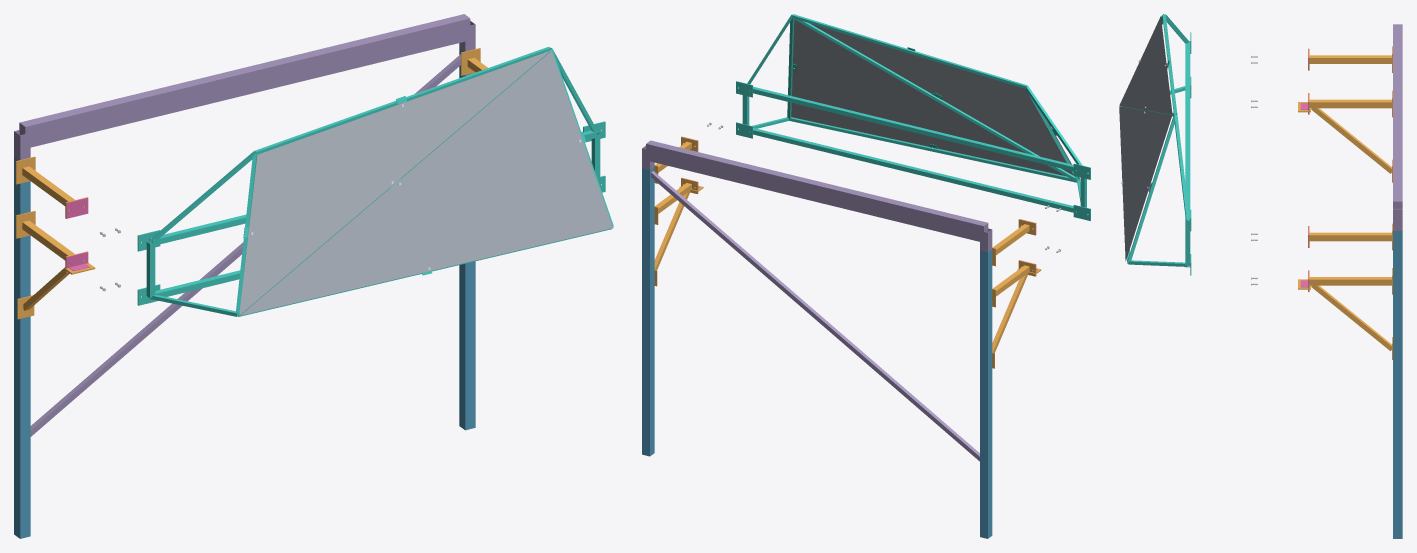
The model's file is baaabs-panel-mounting-v1-exploded.glb.
3 renders of one model, left to right at view 1: azimuth 30°, elevation 25°; view 2: azimuth 150°, elevation 25°; view 3: azimuth 270°, elevation 25°, orthographic. The views are drawn at different scales.
Parts seen in each view (by area): view 1: B-D-033 existing skin, B-D-034 existing skin, Existing roof longitudinal, C driver upright, D driver upright, Existing C-D side brace, Facet backing edge (1, 3), Cassette top rail, Facet corner pickup 3, Cassette bottom rail, Facet backing edge (0, 3); view 2: B-D-033 existing skin, B-D-034 existing skin, Existing roof longitudinal, C driver upright, D driver upright, Existing C-D side brace, Cassette top rail, Cassette bottom rail, Facet backing edge (0, 1), Facet backing edge (0, 2), Facet backing edge (1, 3), C lower outrigger brace; view 3: B-D-033 existing skin, D driver upright, B-D-034 existing skin, Existing roof longitudinal, Cassette top rail, D-upper outrigger, C-lower outrigger, C-upper outrigger, D-lower outrigger, D lower outrigger brace, C lower outrigger brace, Facet backing edge (1, 2) (+2 smaller).
Part boxes in pixels (<box>): B-D-033 existing skin: <box>240,51,612,315</box>; B-D-034 existing skin: <box>239,50,550,315</box>; Existing roof longitudinal: <box>19,14,470,147</box>; C driver upright: <box>14,157,30,538</box>; D driver upright: <box>459,49,475,430</box>; Existing C-D side brace: <box>30,54,460,436</box>; Facet backing edge (1, 3): <box>254,47,550,155</box>; Cassette top rail: <box>149,130,597,245</box>; Facet corner pickup 3: <box>149,151,255,242</box>; Cassette bottom rail: <box>151,270,240,300</box>; Facet backing edge (0, 3): <box>235,153,257,314</box>; B-D-033 existing skin: <box>791,19,1064,175</box>; B-D-034 existing skin: <box>809,23,1080,179</box>; Existing roof longitudinal: <box>646,140,988,241</box>; C driver upright: <box>980,249,992,538</box>; D driver upright: <box>642,167,654,456</box>; Existing C-D side brace: <box>651,171,979,461</box>; Cassette top rail: <box>750,86,1076,171</box>; Cassette bottom rail: <box>750,128,1076,212</box>; Facet backing edge (0, 1): <box>792,18,1077,182</box>; Facet backing edge (0, 2): <box>789,117,1076,182</box>; Facet backing edge (1, 3): <box>791,14,1027,88</box>; C lower outrigger brace: <box>992,273,1028,352</box>; B-D-033 existing skin: <box>1119,106,1172,261</box>; D driver upright: <box>1393,231,1402,538</box>; B-D-034 existing skin: <box>1119,16,1172,114</box>; Existing roof longitudinal: <box>1393,24,1402,209</box>; Cassette top rail: <box>1185,41,1190,220</box>; D-upper outrigger: <box>1309,232,1391,241</box>; C-lower outrigger: <box>1309,99,1391,108</box>; C-upper outrigger: <box>1309,55,1391,63</box>; D-lower outrigger: <box>1309,277,1391,285</box>; D lower outrigger brace: <box>1311,285,1391,350</box>; C lower outrigger brace: <box>1311,108,1391,173</box>; Facet backing edge (1, 2): <box>1127,114,1175,262</box>.
Bounding box in the file's own units: 3.41 × 3.42 × 2.19.
